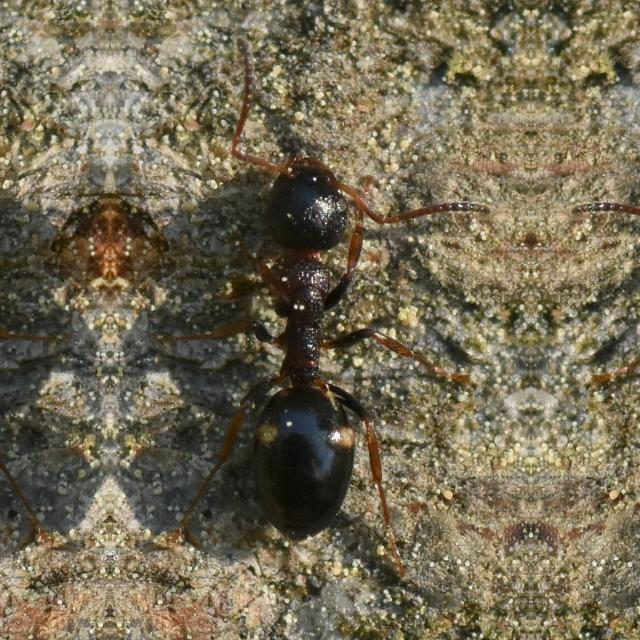Dolichoderus: (190, 44, 412, 580)
